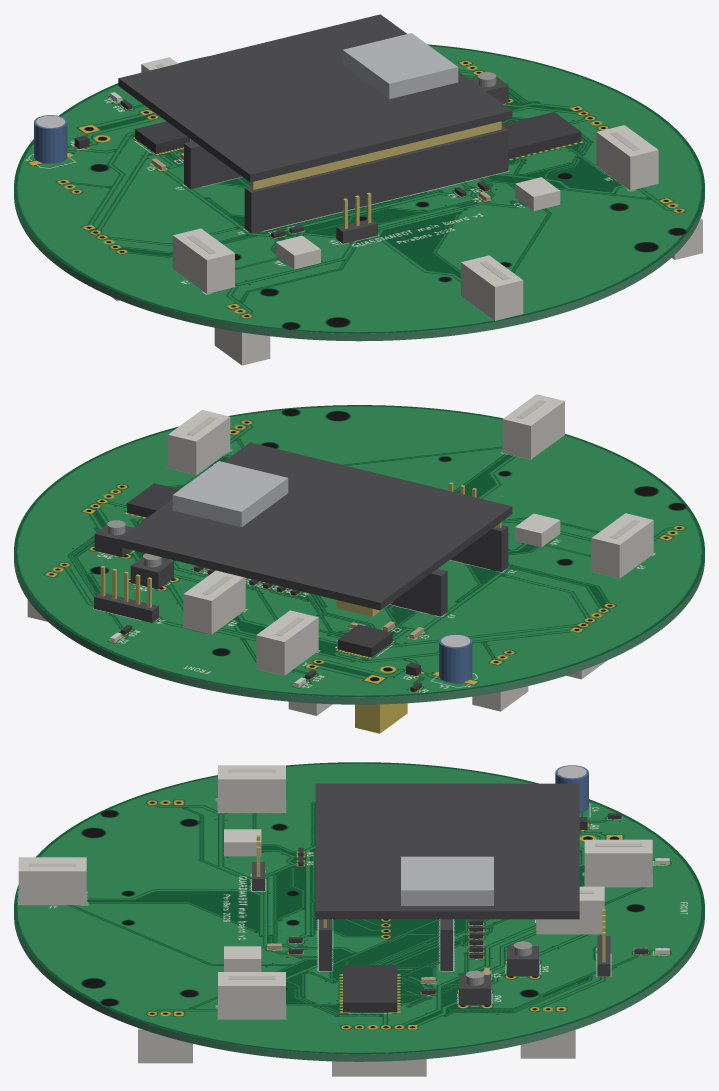
Rendered from pcb.glb.
The picture shows the model from 3 angles, top to bottom: view 1: azimuth 30°, elevation 25°; view 2: azimuth 150°, elevation 25°; view 3: azimuth 270°, elevation 25°; orthographic projection.
Visible parts, largest first — view 1: board_top_0, esp32_board, parts, board_core_0; view 2: board_top_0, esp32_board, parts, board_core_0; view 3: board_top_0, esp32_board, parts, board_core_0.
Boxes of the visible parts, <box> form: board_top_0: <box>14,44,704,333</box>; esp32_board: <box>118,14,512,189</box>; parts: <box>34,57,702,365</box>; board_core_0: <box>14,192,704,341</box>; board_top_0: <box>14,405,704,696</box>; esp32_board: <box>118,442,512,616</box>; parts: <box>27,394,653,733</box>; board_core_0: <box>14,555,704,704</box>; board_top_0: <box>14,762,704,1054</box>; esp32_board: <box>315,783,579,927</box>; parts: <box>18,765,669,1076</box>; board_core_0: <box>14,912,704,1061</box>.
Size of the model in its own units: 130 by 25.9 by 130.
Materials: 2 (2 with a texture image).
